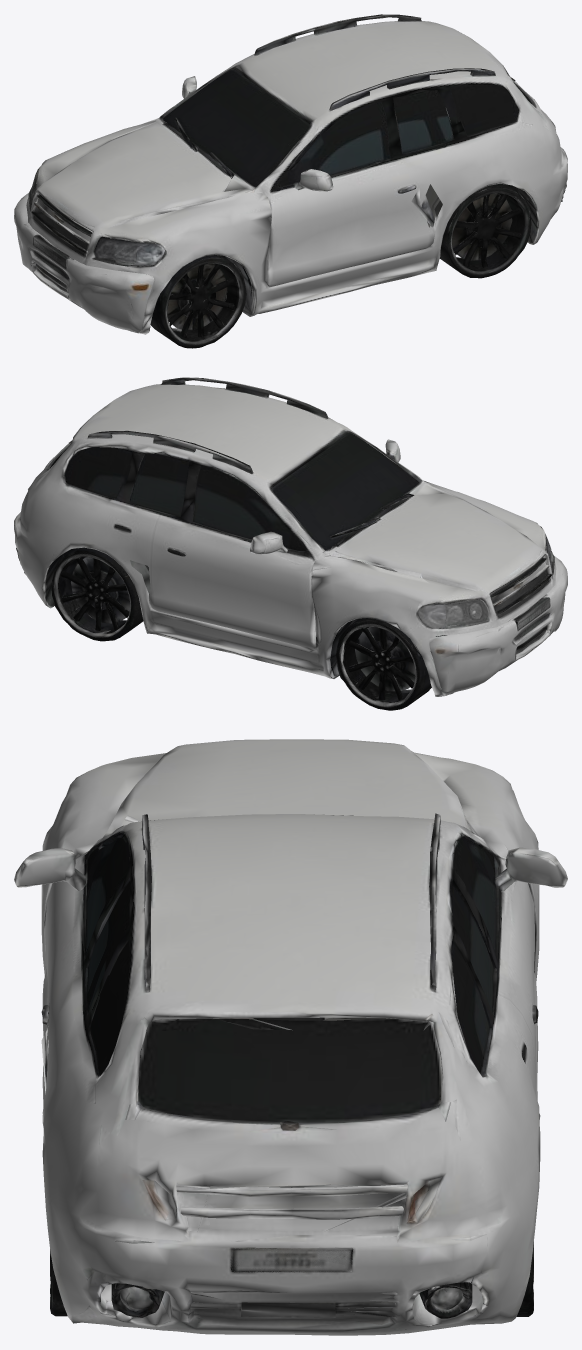
Rendered from carro.glb.
The picture shows the model from 3 angles, top to bottom: view 1: azimuth 30°, elevation 25°; view 2: azimuth 150°, elevation 25°; view 3: azimuth 270°, elevation 25°; orthographic projection. The views are drawn at different scales.
Parts seen in each view (by area): view 1: mesh_node; view 2: mesh_node; view 3: mesh_node.
Boxes of the visible parts, x1=… form: mesh_node: x1=14, y1=14, x2=567, y2=348; mesh_node: x1=14, y1=377, x2=567, y2=710; mesh_node: x1=14, y1=739, x2=567, y2=1335.
Bounding box in the file's own units: 2.05 × 0.8 × 1.04.
Materials: 1 (1 with a texture image).
